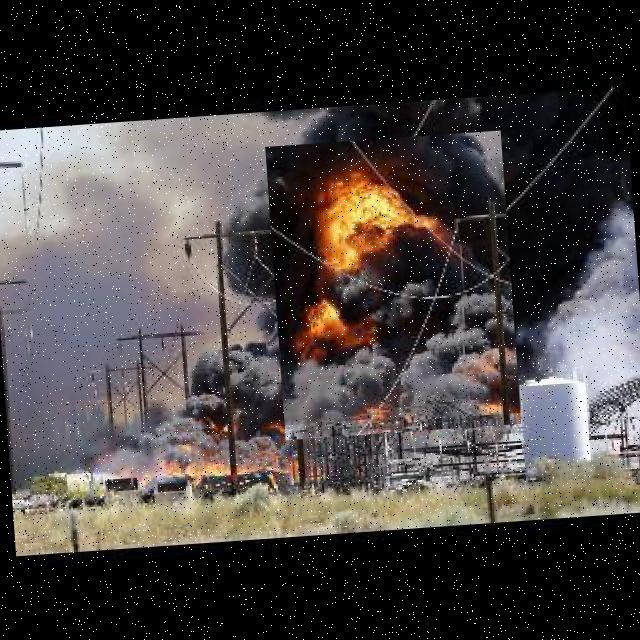fire: (264, 130, 520, 440)
